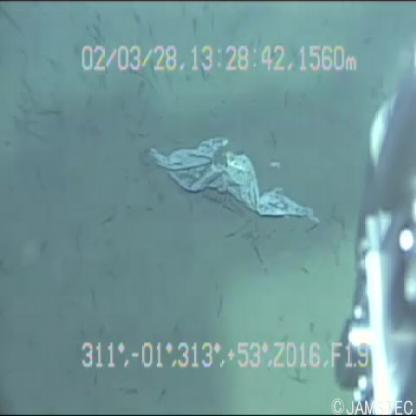Rác: (142, 122, 334, 242)
